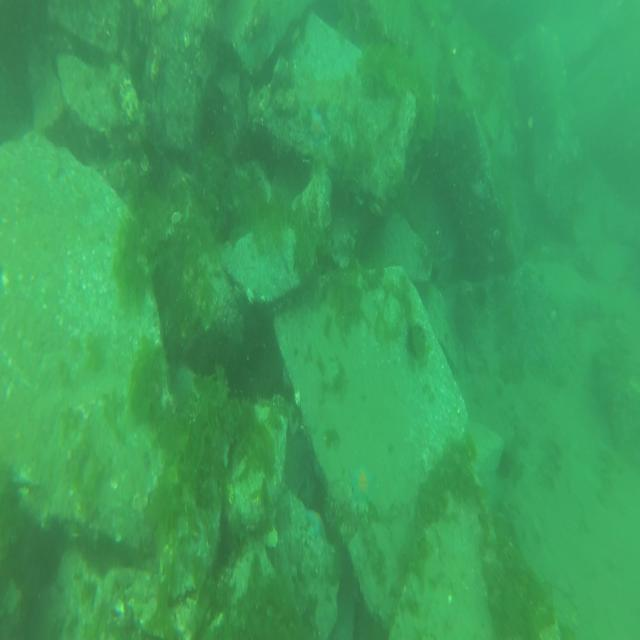echinus: (405, 316, 428, 362), (498, 450, 512, 478), (448, 77, 461, 98), (476, 285, 487, 305), (430, 265, 440, 283)
starfish: (348, 461, 375, 501), (305, 510, 328, 541), (309, 108, 328, 143), (302, 477, 317, 510), (470, 179, 487, 200), (313, 457, 324, 483)
